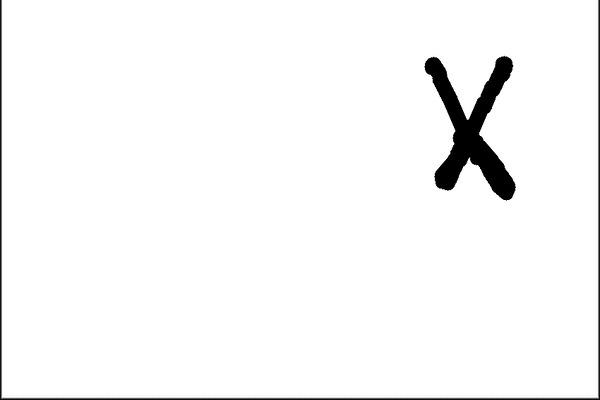X: (396, 33, 546, 248)
